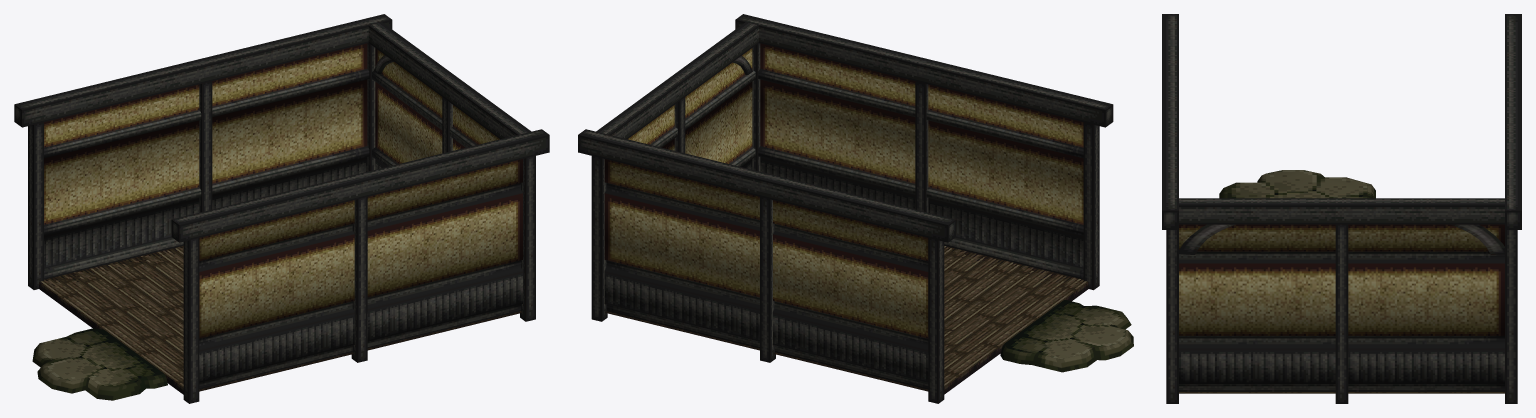
Rendered from EnvBdgMD_Forest_A_Indoor_House_I.FBX.
The picture shows the model from 3 angles, left to right: view 1: azimuth 30°, elevation 25°; view 2: azimuth 150°, elevation 25°; view 3: azimuth 270°, elevation 25°; orthographic projection. The views are drawn at different scales.
Parts seen in each view (by area): view 1: EnvBdgMD_Forest_A_Indoor_House_I; view 2: EnvBdgMD_Forest_A_Indoor_House_I; view 3: EnvBdgMD_Forest_A_Indoor_House_I.
Boxes of the visible parts, x1,y1,x2,y2 form: EnvBdgMD_Forest_A_Indoor_House_I: [14, 14, 549, 403]; EnvBdgMD_Forest_A_Indoor_House_I: [578, 14, 1133, 403]; EnvBdgMD_Forest_A_Indoor_House_I: [1162, 14, 1521, 403].
Size of the model in its own units: 1320 by 525 by 850.
